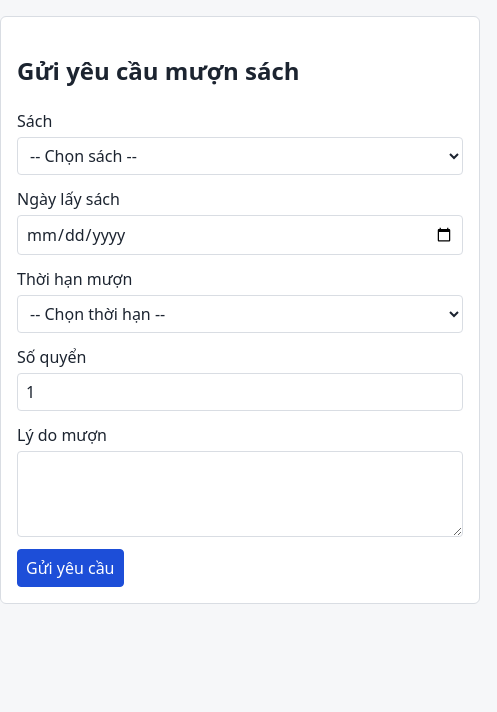
it: LoanForm › hiện lỗi do action trả về ngay dưới đúng ô
Step 1. Click the button "Gửi yêu cầu" → click(70, 568), box [17,549,124,587]
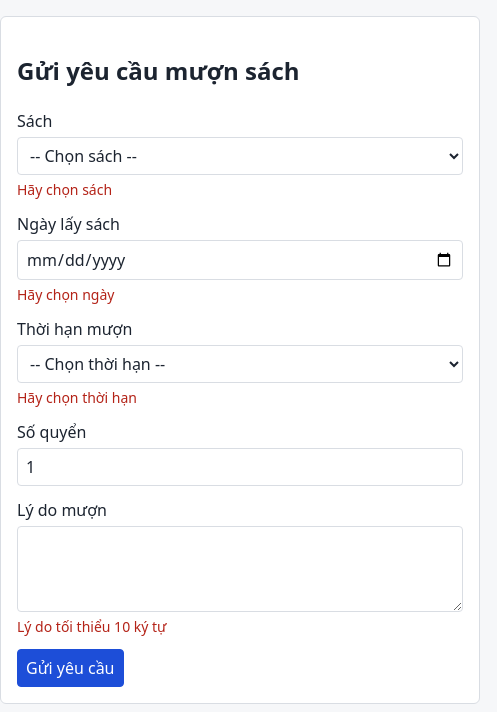
Now the element labelled "Sách" shows "Hãy chọn sách", box [17,180,112,199]
Now the element labelled "Ngày lấy sách" shows "Hãy chọn ngày", box [17,285,114,304]
Now the element labelled "Thời hạn mượn" shows "Hãy chọn thời hạn", box [17,388,137,407]
